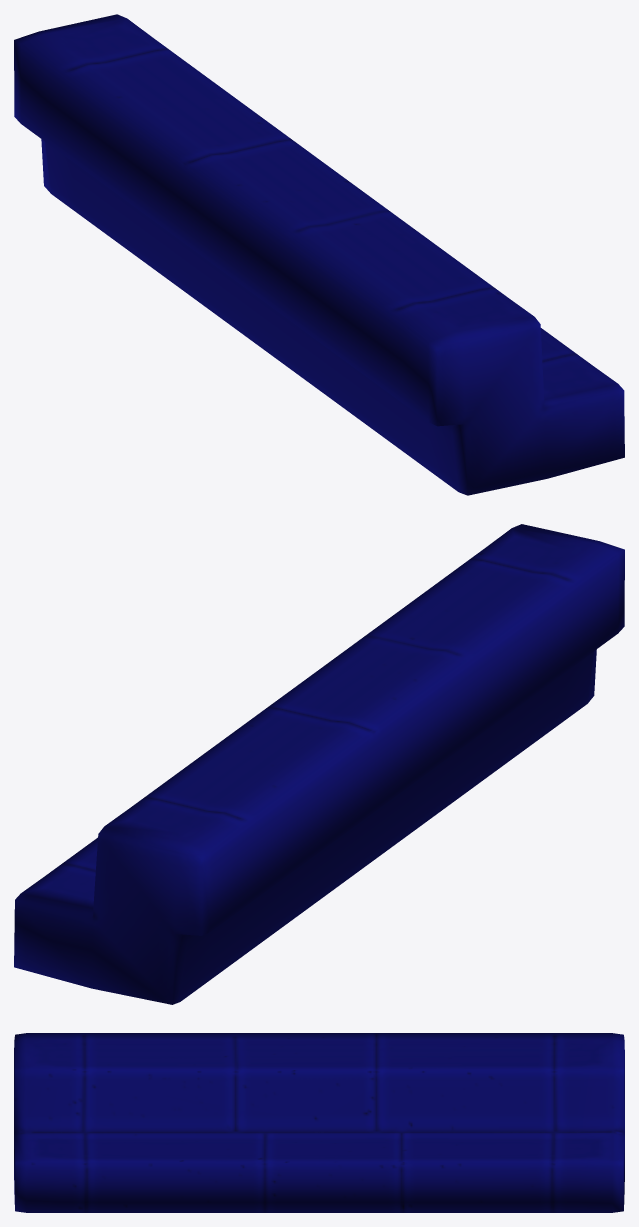
The model's file is SmallStair.fbx.
3 renders of one model, top to bottom at view 1: azimuth 30°, elevation 25°; view 2: azimuth 150°, elevation 25°; view 3: azimuth 270°, elevation 25°, orthographic. The views are drawn at different scales.
Parts seen in each view (by area): view 1: SmallStair_LowPoly; view 2: SmallStair_LowPoly; view 3: SmallStair_LowPoly.
Boxes of the visible parts, x1,y1,x2,y2 form: SmallStair_LowPoly: (14,14,624,495); SmallStair_LowPoly: (14,524,624,1004); SmallStair_LowPoly: (14,1033,624,1212).
Size of the model in its own units: 51.17 by 42.39 by 198.
